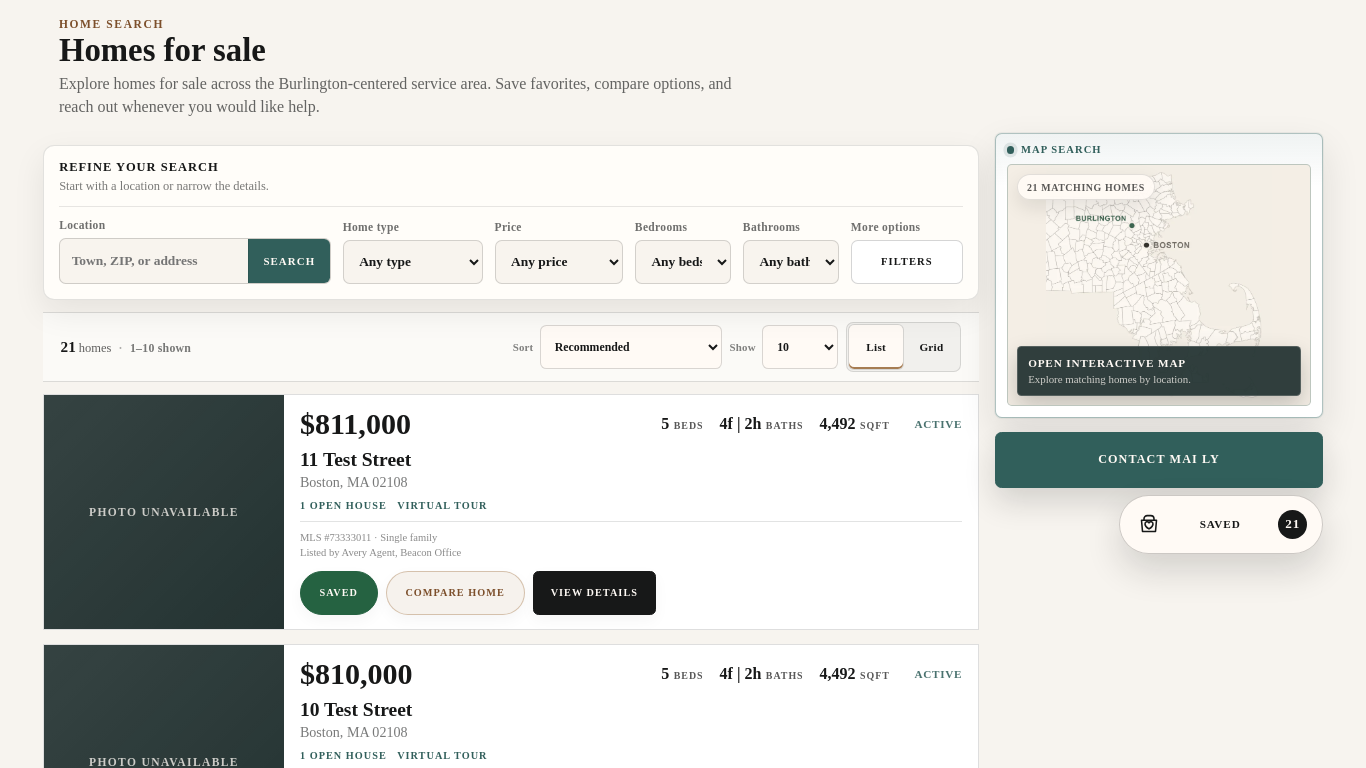
Test: PropertiesSearch › requires saved lists over twenty homes to be narrowed before sending
Click the button with aria-label "show saved homes, 21 saved".
click(1221, 524)  # box [1125,501,1317,547]
(page scrolled)
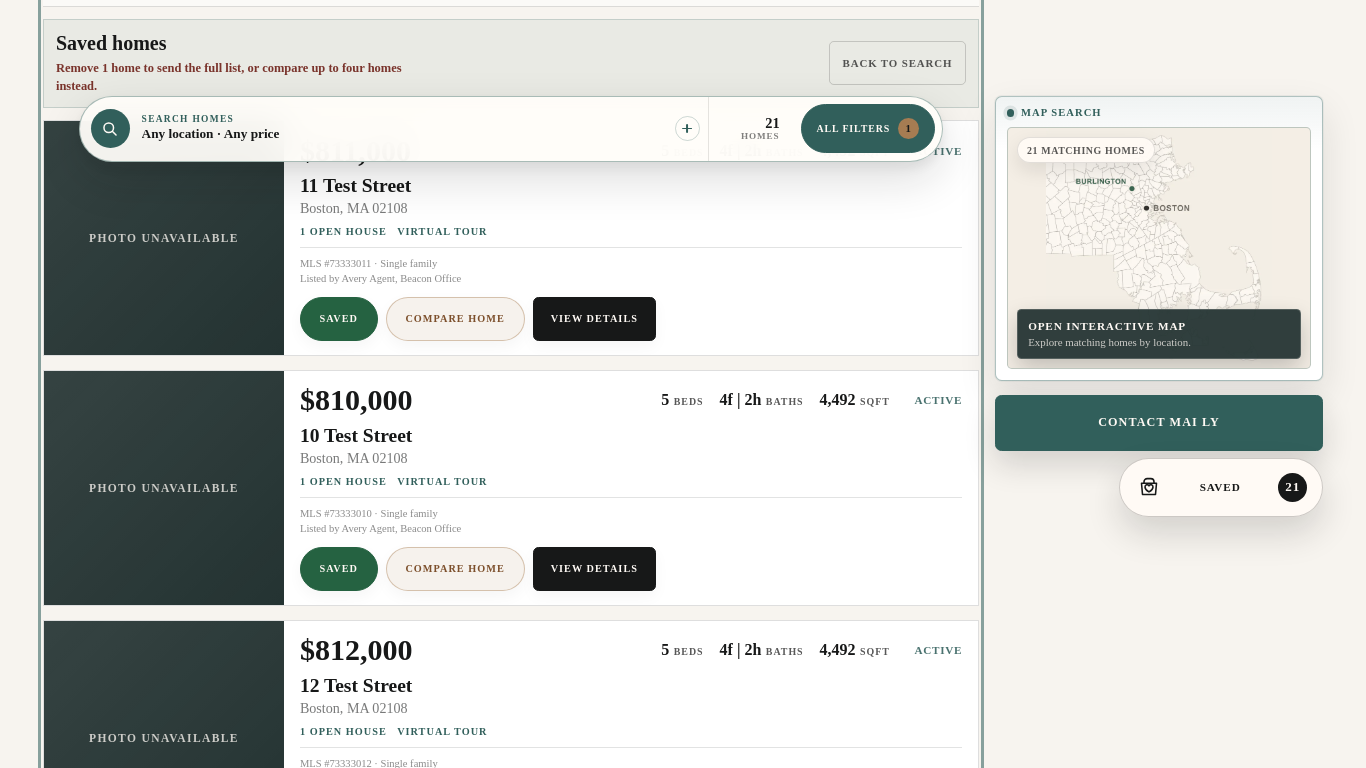
Check: the text "Remove 1 home to send the full list, or compare up to four homes instead." is shown, box [56,60,442,95]
